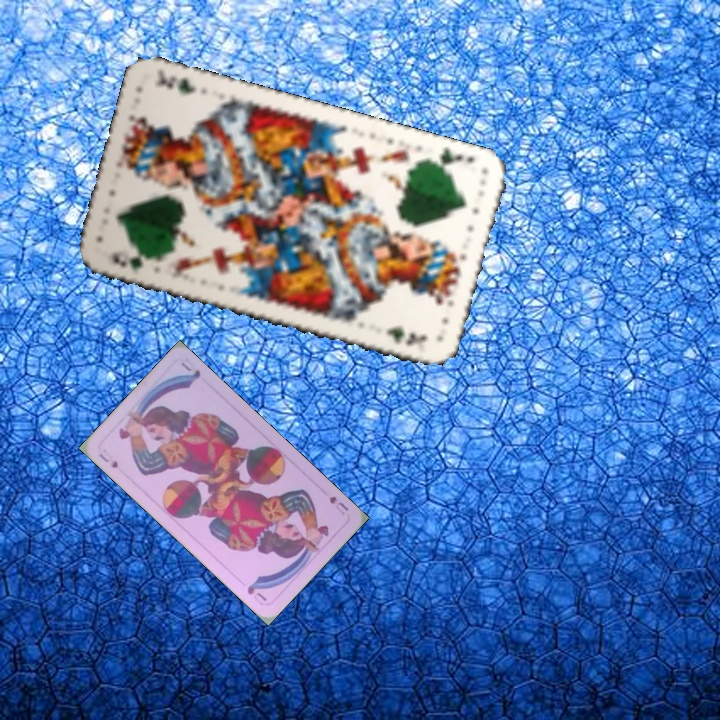GK: (427, 144, 478, 174), (106, 247, 160, 273)
SU: (325, 492, 351, 518), (95, 449, 121, 471)
